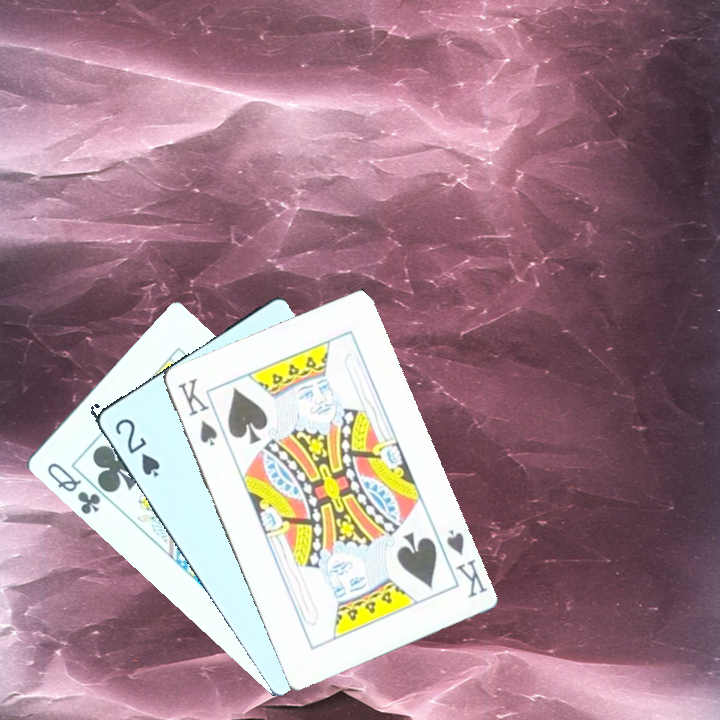2s: (111, 414, 163, 478)
Ks: (431, 525, 489, 601), (175, 374, 220, 449)
Qc: (43, 455, 115, 517)
